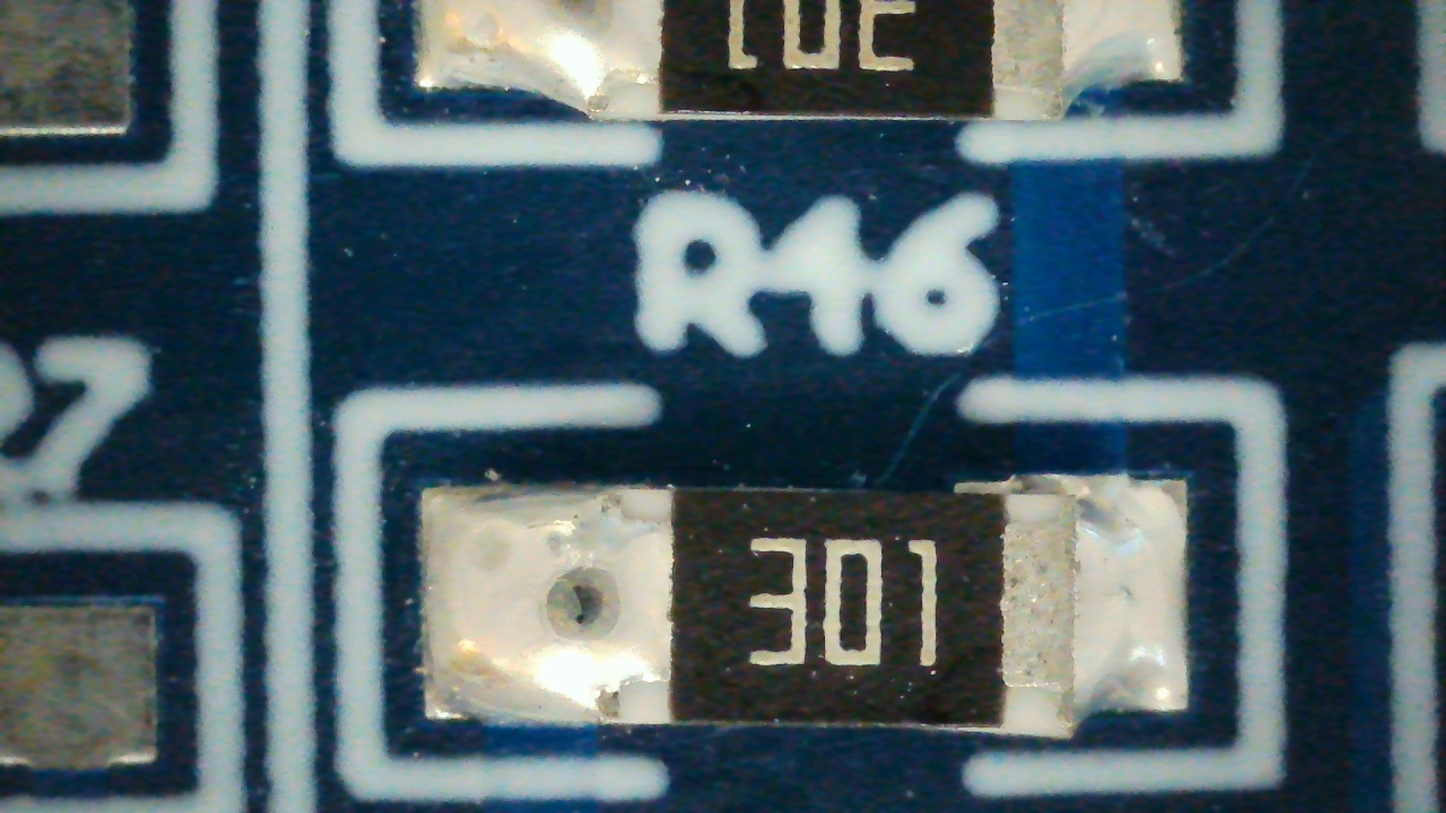OK: (425, 472, 1188, 737)
